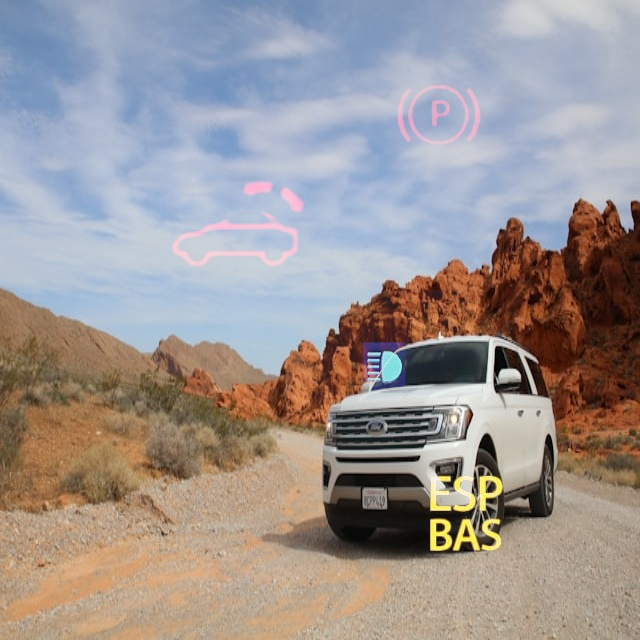symbol: (138, 126, 339, 327), (302, 290, 468, 456), (406, 454, 527, 575), (378, 56, 498, 176)
